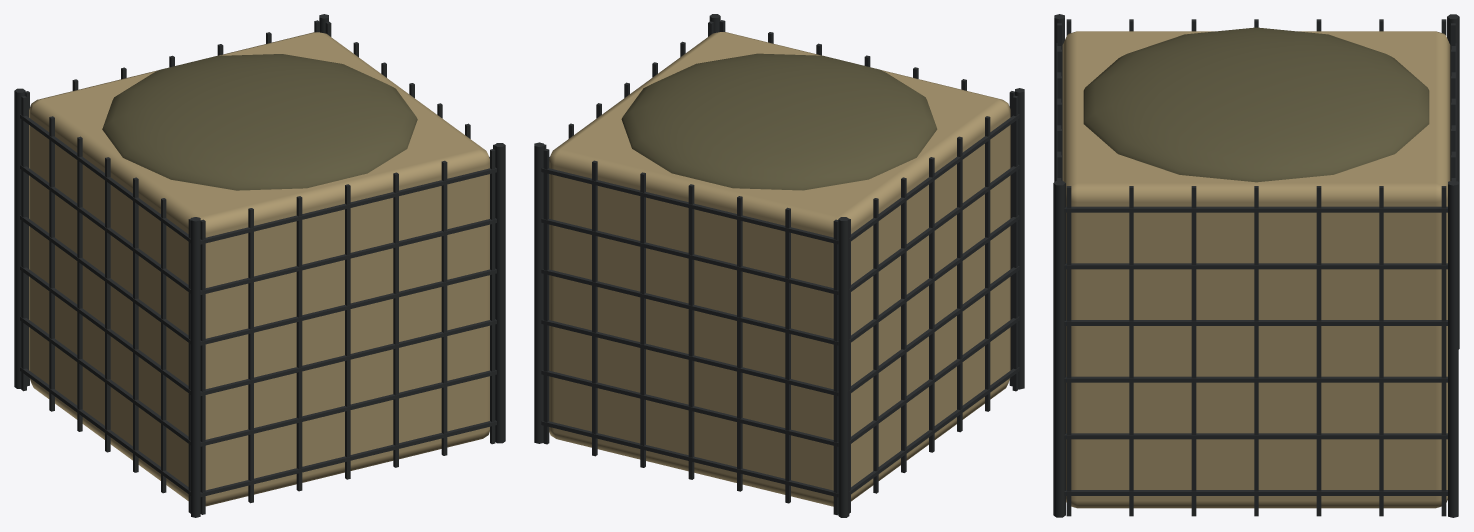
File: hesco.glb
3 renders of one model, left to right at view 1: azimuth 30°, elevation 25°; view 2: azimuth 150°, elevation 25°; view 3: azimuth 270°, elevation 25°, orthographic. The views are drawn at different scales.
Visible parts, largest first — view 1: burlap, steel-dark, ground; view 2: burlap, steel-dark, ground; view 3: burlap, ground, steel-dark.
Boxes of the visible parts, x1,y1,x2,y2 form: burlap: (29, 32, 489, 506); steel-dark: (14, 14, 505, 517); ground: (102, 54, 417, 190); burlap: (549, 32, 1010, 506); steel-dark: (534, 14, 1024, 517); ground: (621, 53, 937, 190); burlap: (1062, 31, 1450, 508); ground: (1083, 27, 1429, 182); steel-dark: (1053, 14, 1459, 517).
Bounding box in the file's own units: 1.95 × 1.89 × 1.95.
